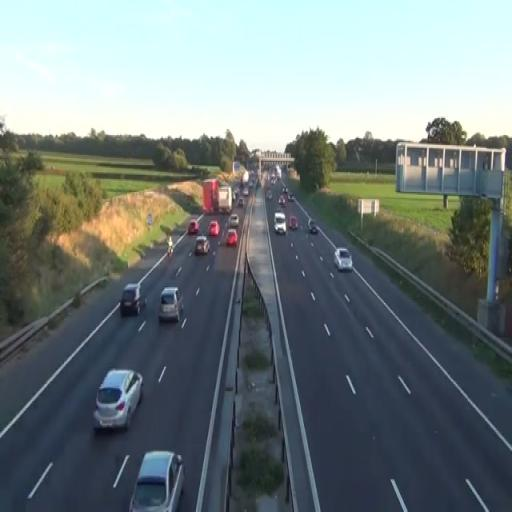Car: (128, 449, 186, 512), (93, 368, 144, 433), (120, 282, 144, 316), (158, 287, 181, 322), (334, 248, 352, 272), (195, 236, 210, 256), (274, 212, 286, 236), (226, 229, 238, 247), (208, 219, 220, 236), (228, 214, 239, 228), (289, 214, 298, 230)
Truck: (218, 186, 232, 212)
